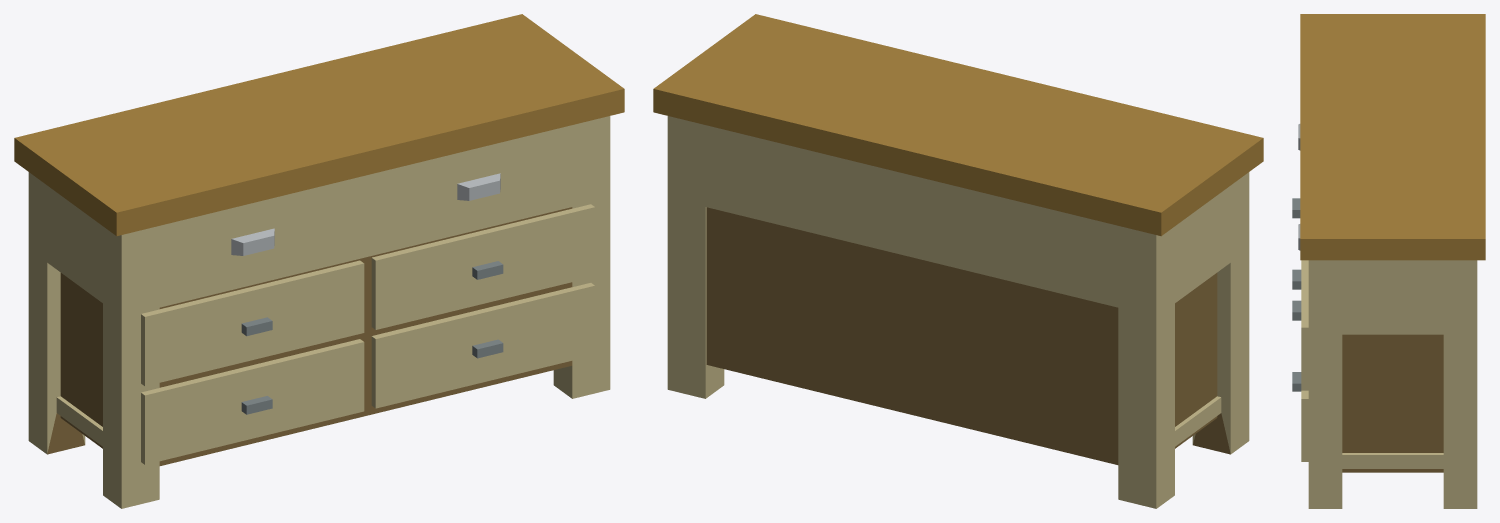
The model's file is dresser.glb.
The picture shows the model from 3 angles, left to right: view 1: azimuth 30°, elevation 25°; view 2: azimuth 150°, elevation 25°; view 3: azimuth 270°, elevation 25°; orthographic projection. The views are drawn at different scales.
Visible parts, largest first — view 1: dresser; view 2: dresser; view 3: dresser.
Boxes of the visible parts, <box> form: dresser: <box>14,14,624,508</box>; dresser: <box>653,14,1263,508</box>; dresser: <box>1292,14,1485,508</box>.
Size of the model in its own units: 1.76 by 1 by 0.64.
